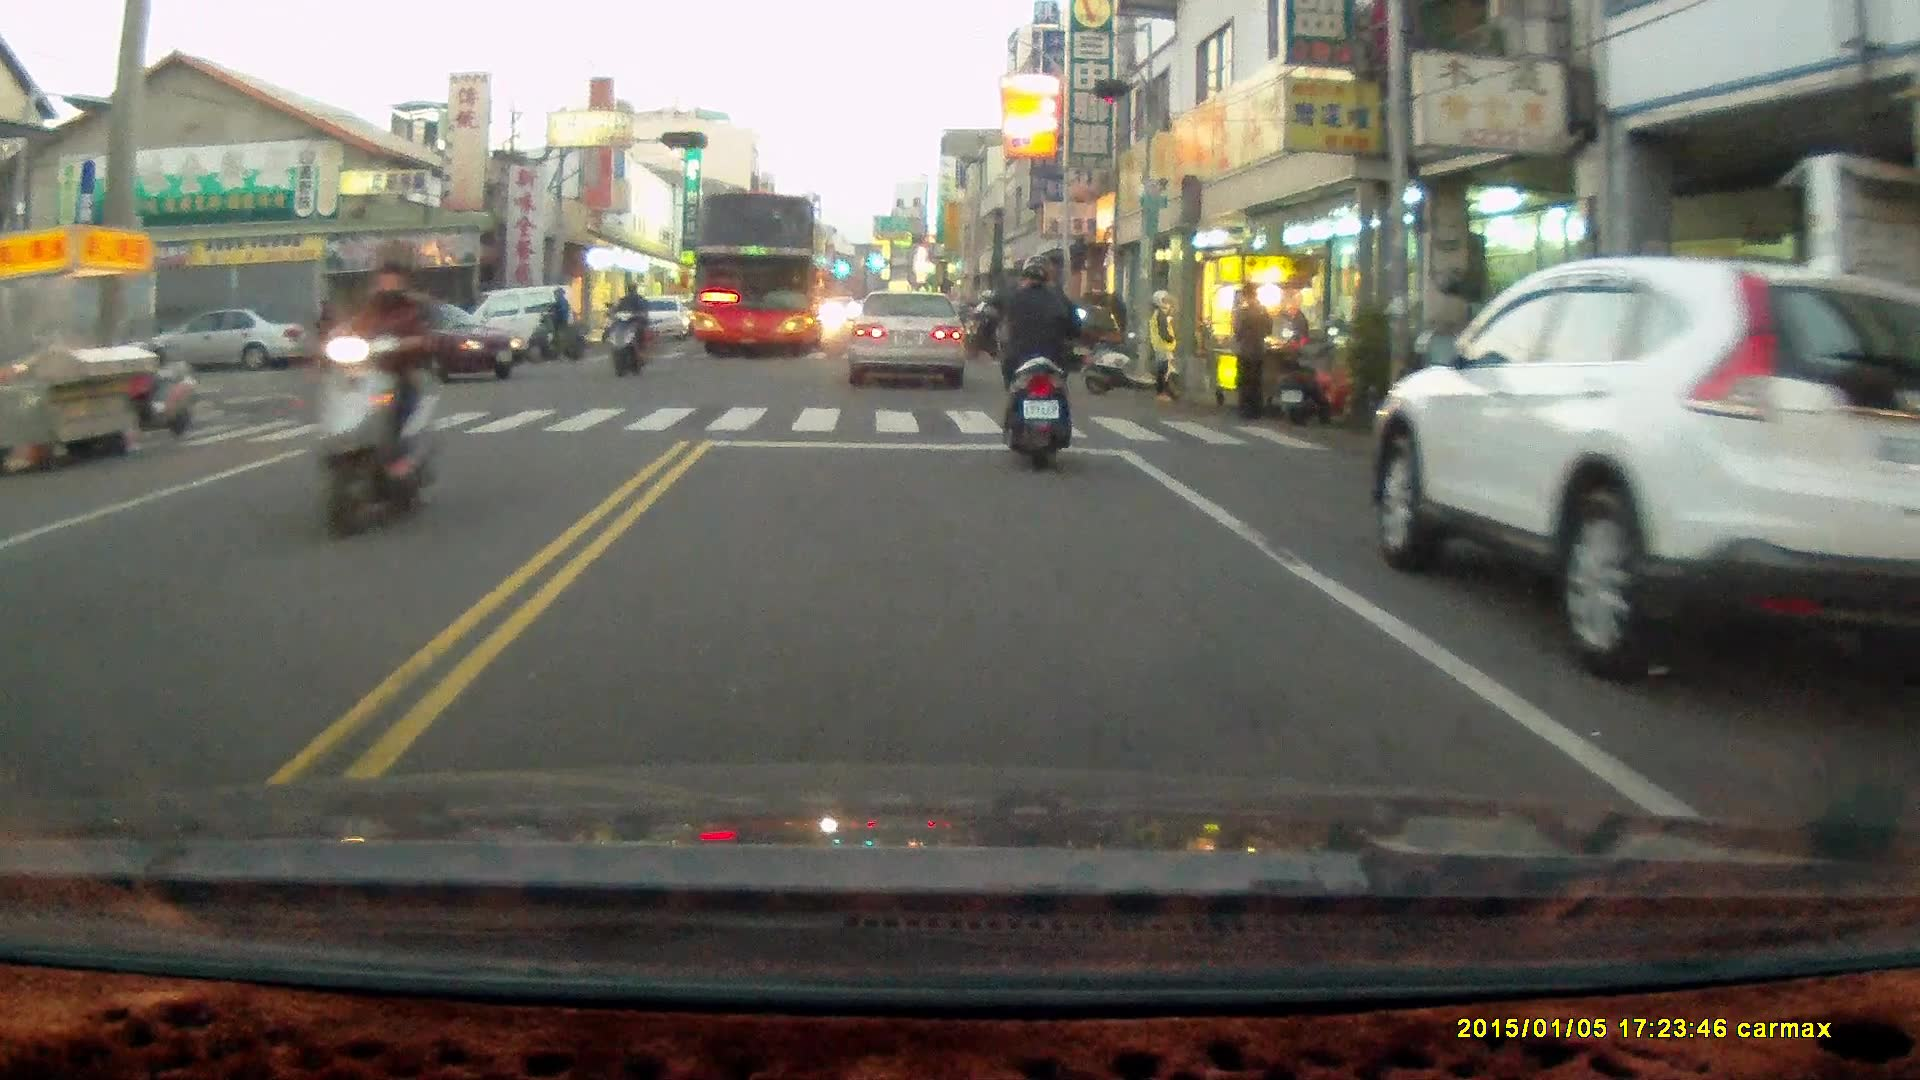pedestrian: (1231, 281, 1272, 425), (1143, 287, 1180, 406), (311, 296, 336, 369)
rider: (293, 234, 444, 542), (988, 254, 1086, 470), (524, 285, 586, 363), (961, 286, 1014, 365), (606, 280, 650, 375)
vehicle: (1369, 253, 1911, 689), (685, 194, 827, 366), (328, 300, 520, 384), (441, 282, 585, 374), (848, 288, 970, 390), (132, 311, 298, 376)
